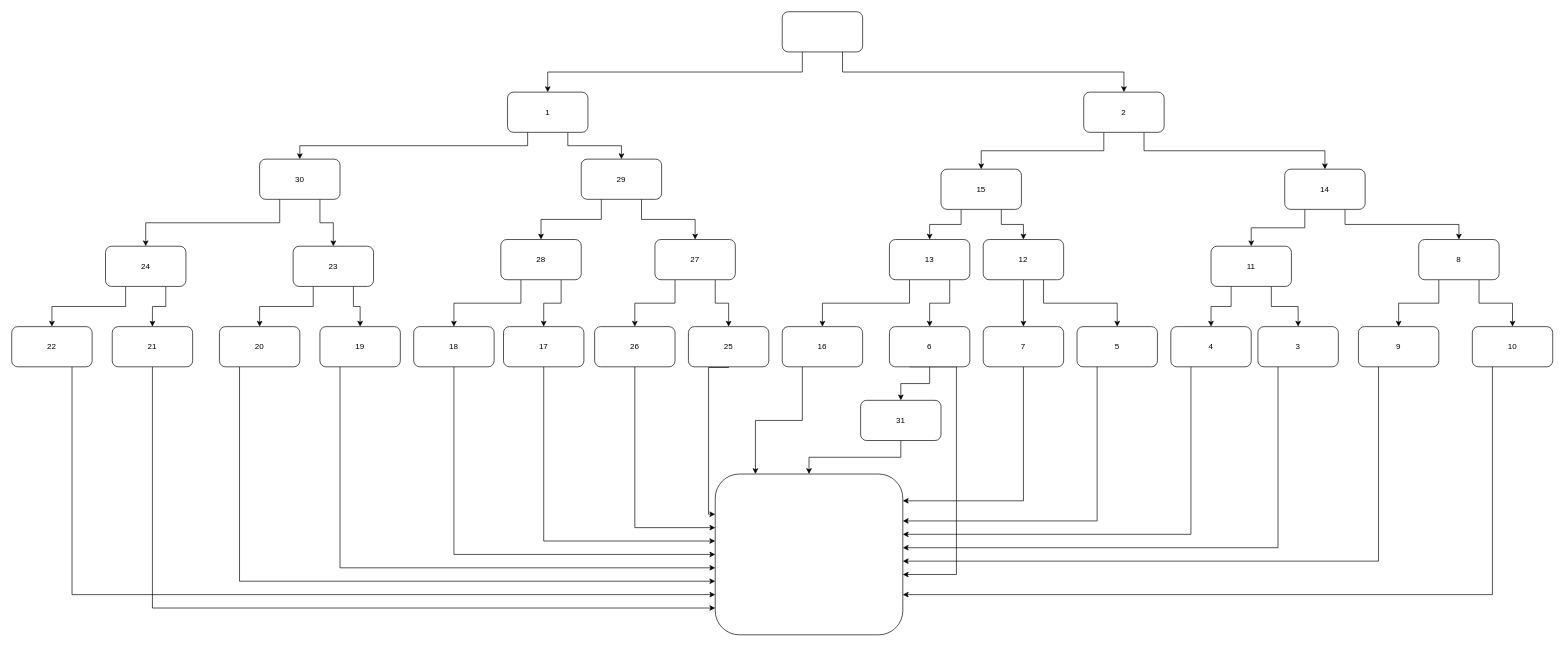
Image size: 1564x647. Some labels were removed from this diagram. The shapes that lost their labels are listed below. From the top down, each one's centre as x and y in pixels, then its label:
At (822,31): "Start".
At (809,554): "End".
